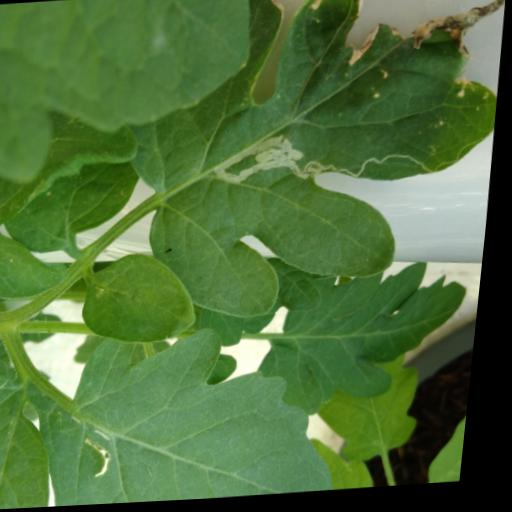Leaf_Miner: (184, 106, 501, 210)
